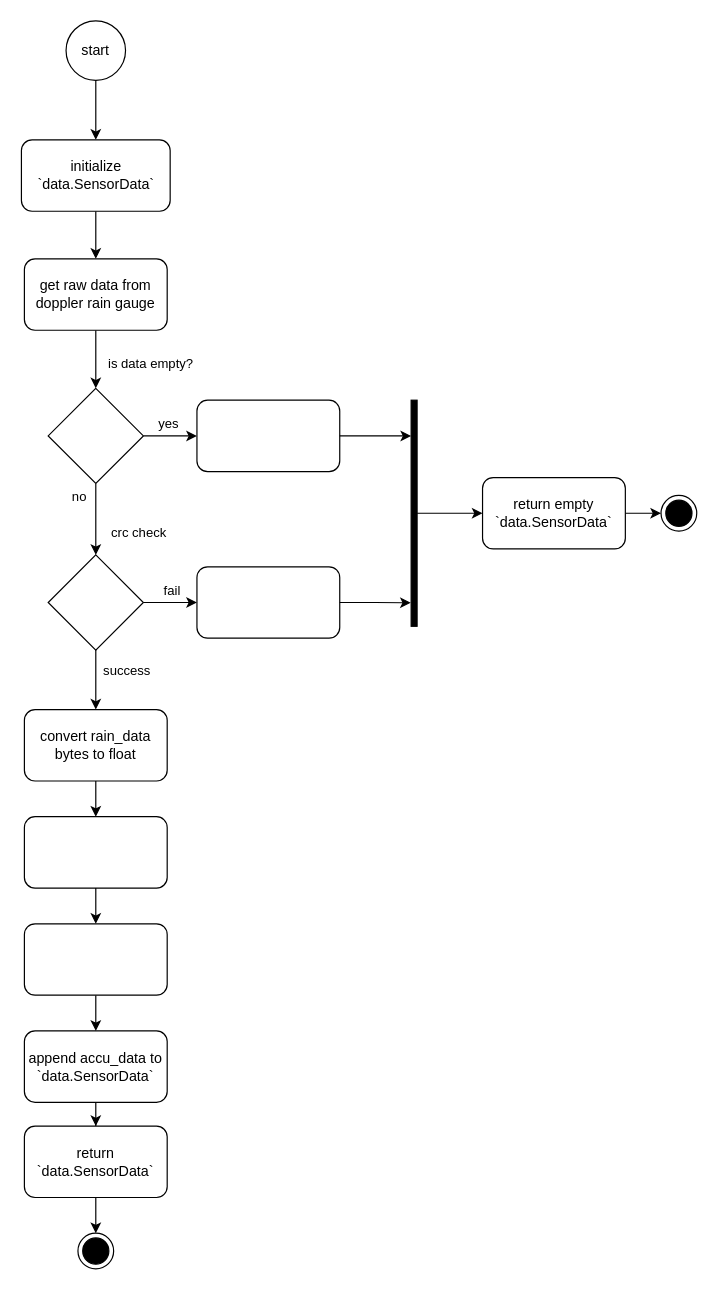
Some shapes in this 718 by 1290 pixel diagram are drawn without their labels. The centre of each missing label's shape, as x and y in pixels:
"append rain_data to `data.SensorData`" belongs at point (95, 959).
"convert accu_data bytes to float" belongs at point (95, 852).
"log crc fail" belongs at point (268, 602).
"log no data received" belongs at point (268, 435).
